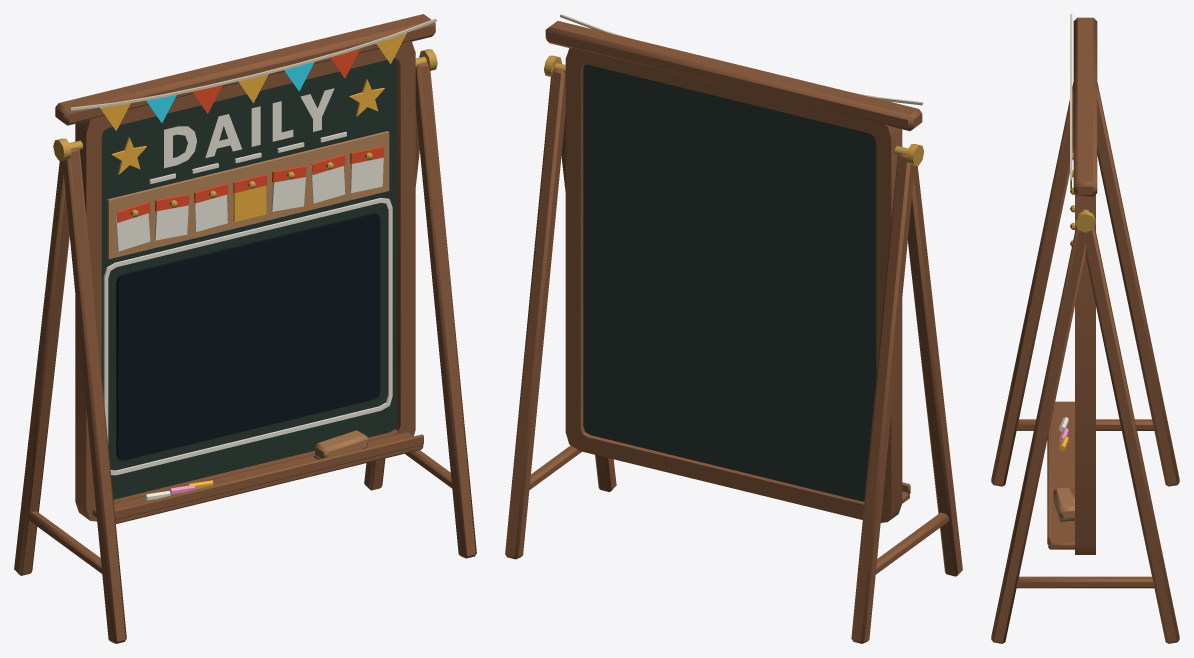
Rendered from Lobby_DailyBoard.fbx.
3 views of the same model, side by side, from view 1: azimuth 30°, elevation 25°; view 2: azimuth 150°, elevation 25°; view 3: azimuth 270°, elevation 25° (orthographic). The views are drawn at different scales.
Parts seen in each view (by area): view 1: Wood, Screen, Chalkboard, ChalkLines, Cork, DayPages, DayHeads, String, FlagMustard, Brass, ChalkStars, Today (+3 smaller); view 2: Chalkboard, Wood, Brass; view 3: Wood, Eraser, Brass, String.
Part boxes in pixels (<box>): Wood: <box>14,14,476,643</box>; Screen: <box>116,213,380,460</box>; Chalkboard: <box>101,58,396,499</box>; ChalkLines: <box>103,88,392,475</box>; Cork: <box>107,131,389,259</box>; DayPages: <box>115,157,383,251</box>; DayHeads: <box>115,146,384,222</box>; String: <box>69,18,436,110</box>; FlagMustard: <box>100,33,406,130</box>; Brass: <box>53,49,437,217</box>; ChalkStars: <box>111,79,384,174</box>; Today: <box>233,185,266,222</box>; Chalkboard: <box>583,64,876,501</box>; Wood: <box>505,21,962,643</box>; Brass: <box>544,55,923,165</box>; Wood: <box>991,17,1179,643</box>; Eraser: <box>1053,487,1074,519</box>; Brass: <box>1070,152,1095,246</box>; String: <box>1070,14,1072,180</box>.
Size of the model in its own units: 612 by 795 by 290.
